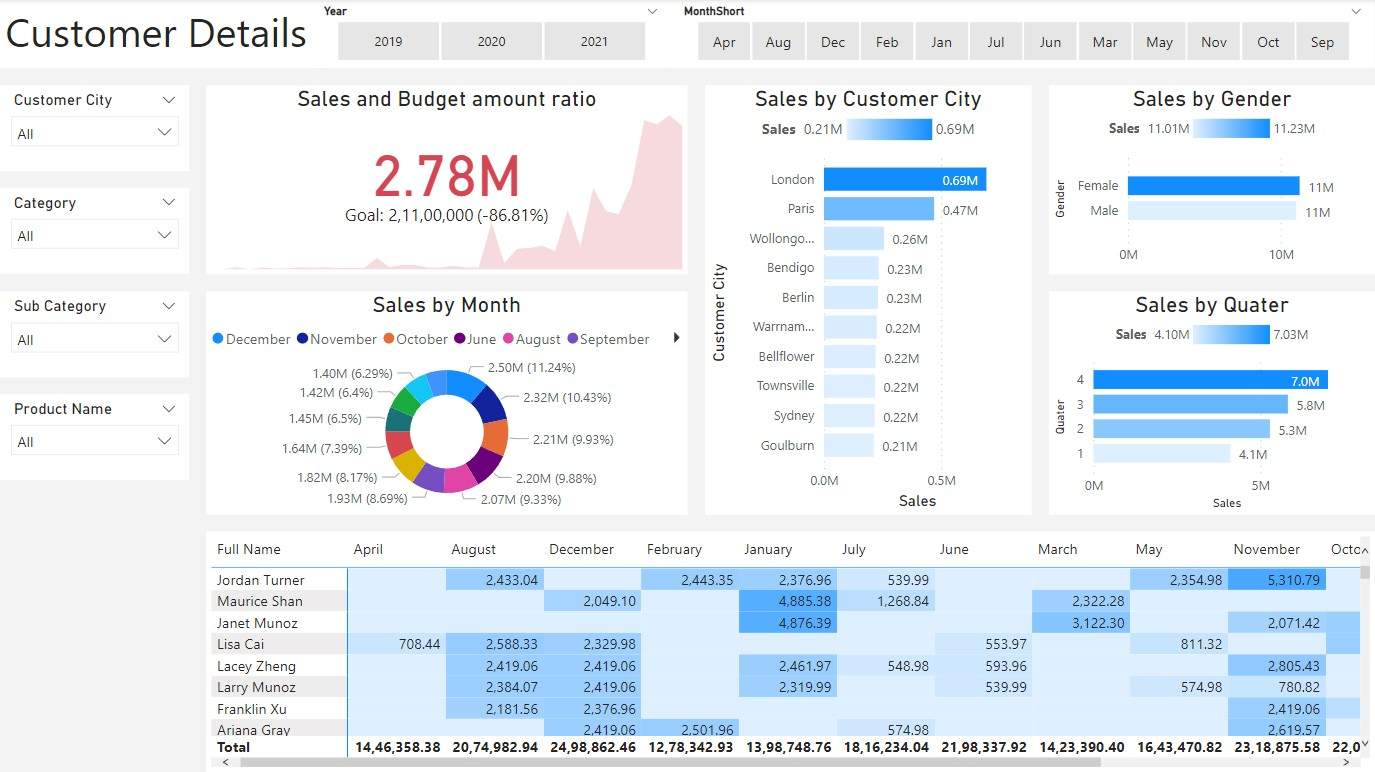

What the dashboard file says about the page in this screenshot:
{"tool":"powerbi","page":{"name":"Customer Details","canvas":[1280,720],"ordinal":1},"visuals":[{"type":"kpi","title":"Sales and Budget amount ratio","fields":{"Goal":["Budget.Budget_Amount"],"Indicator":["FactInternetSale.Sales"],"TrendLine":["FactInternetSale.SalesAmount"]},"box":[192,80,448,176],"z":0},{"type":"textbox","box":[0,0,304,64],"z":1},{"type":"donutChart","fields":{"Y":["FactInternetSale.Sales"],"Category":["Dim_Date_Excel.Month"]},"box":[192,272,448,208],"z":2},{"type":"barChart","fields":{"Category":["DIM_Customer.Customer City"],"Y":["FactInternetSale.Sales"]},"box":[656,80,304,400],"z":3},{"type":"barChart","fields":{"Y":["FactInternetSale.Sales"],"Category":["DIM_Customer.Gender"]},"box":[976,80,304,176],"z":4},{"type":"slicer","fields":{"Values":["DIM_Customer.Customer City"]},"box":[0,80,176,80],"z":5},{"type":"slicer","fields":{"Values":["DIM_Products.Product Category"]},"box":[0,176,176,80],"z":6},{"type":"slicer","fields":{"Values":["DIM_Products.Sub Category"]},"box":[0,272,176,80],"z":7},{"type":"slicer","fields":{"Values":["DIM_Products.Product Name"]},"box":[0,368,176,80],"z":8},{"type":"slicer","fields":{"Values":["Dim_Date_Excel.Year"]},"box":[288,0,336,64],"z":9},{"type":"slicer","fields":{"Values":["Dim_Date_Excel.MonthShort"]},"box":[624,0,656,64],"z":10},{"type":"pivotTable","fields":{"Rows":["DIM_Customer.Full Name"],"Values":["FactInternetSale.Sales"],"Columns":["Dim_Date_Excel.Month"]},"box":[192,496,1088,224],"z":11},{"type":"barChart","fields":{"Y":["FactInternetSale.Sales"],"Category":["Dim_Date_Excel.Quater"]},"box":[976,272,304,208],"z":12}]}

Visuals, with their boxes in screenshot pixels (x1, y1, x2, y2), scaled from the page's 1280x720 canvas onto the 1375x772 screenshot:
"Sales and Budget amount ratio" kpi: crop(206, 86, 688, 274)
textbox: crop(0, 0, 327, 69)
donutChart - FactInternetSale.Sales x Dim_Date_Excel.Month: crop(206, 292, 688, 515)
barChart - DIM_Customer.Customer City x FactInternetSale.Sales: crop(705, 86, 1031, 515)
barChart - FactInternetSale.Sales x DIM_Customer.Gender: crop(1048, 86, 1374, 274)
slicer - DIM_Customer.Customer City: crop(0, 86, 189, 172)
slicer - DIM_Products.Product Category: crop(0, 189, 189, 274)
slicer - DIM_Products.Sub Category: crop(0, 292, 189, 377)
slicer - DIM_Products.Product Name: crop(0, 395, 189, 480)
slicer - Dim_Date_Excel.Year: crop(309, 0, 670, 69)
slicer - Dim_Date_Excel.MonthShort: crop(670, 0, 1374, 69)
pivotTable - DIM_Customer.Full Name x FactInternetSale.Sales: crop(206, 532, 1374, 771)
barChart - FactInternetSale.Sales x Dim_Date_Excel.Quater: crop(1048, 292, 1374, 515)
